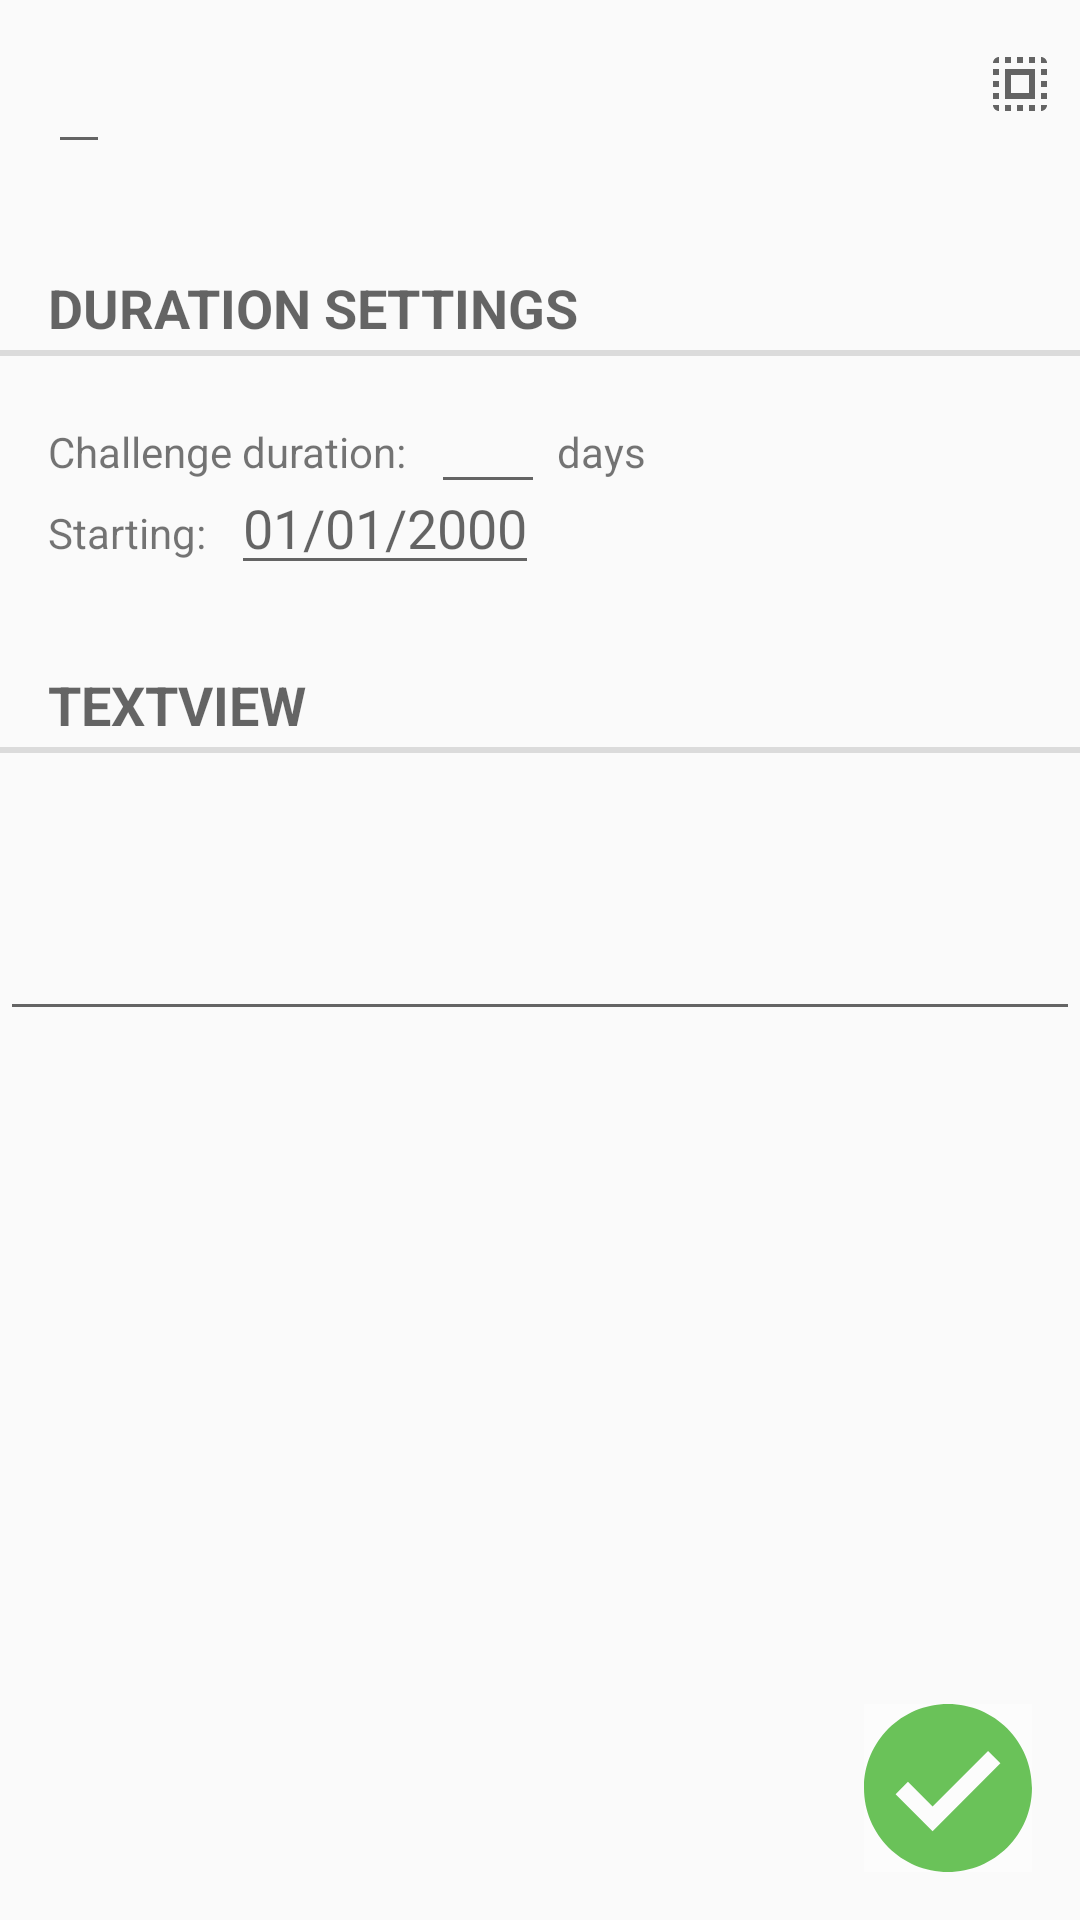

Icon click points for this 1080 x 1920 phone screenshot, format (x=x, y=y):
checked: (x=948, y=1788)
